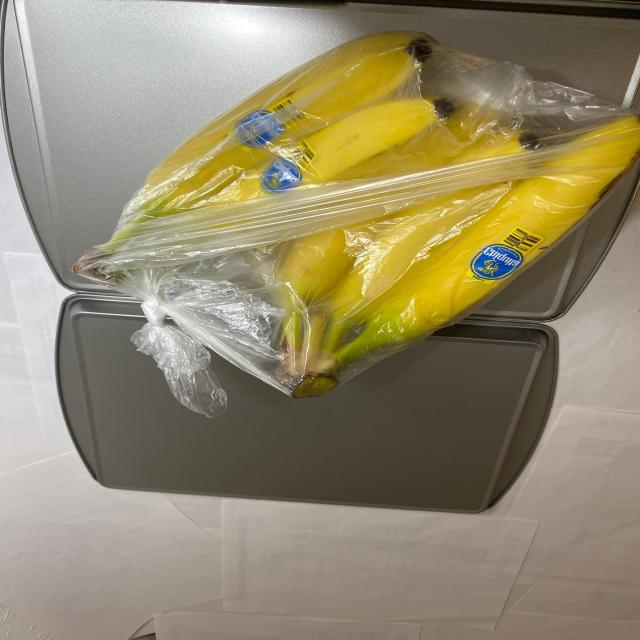banana: (71, 33, 631, 404)
